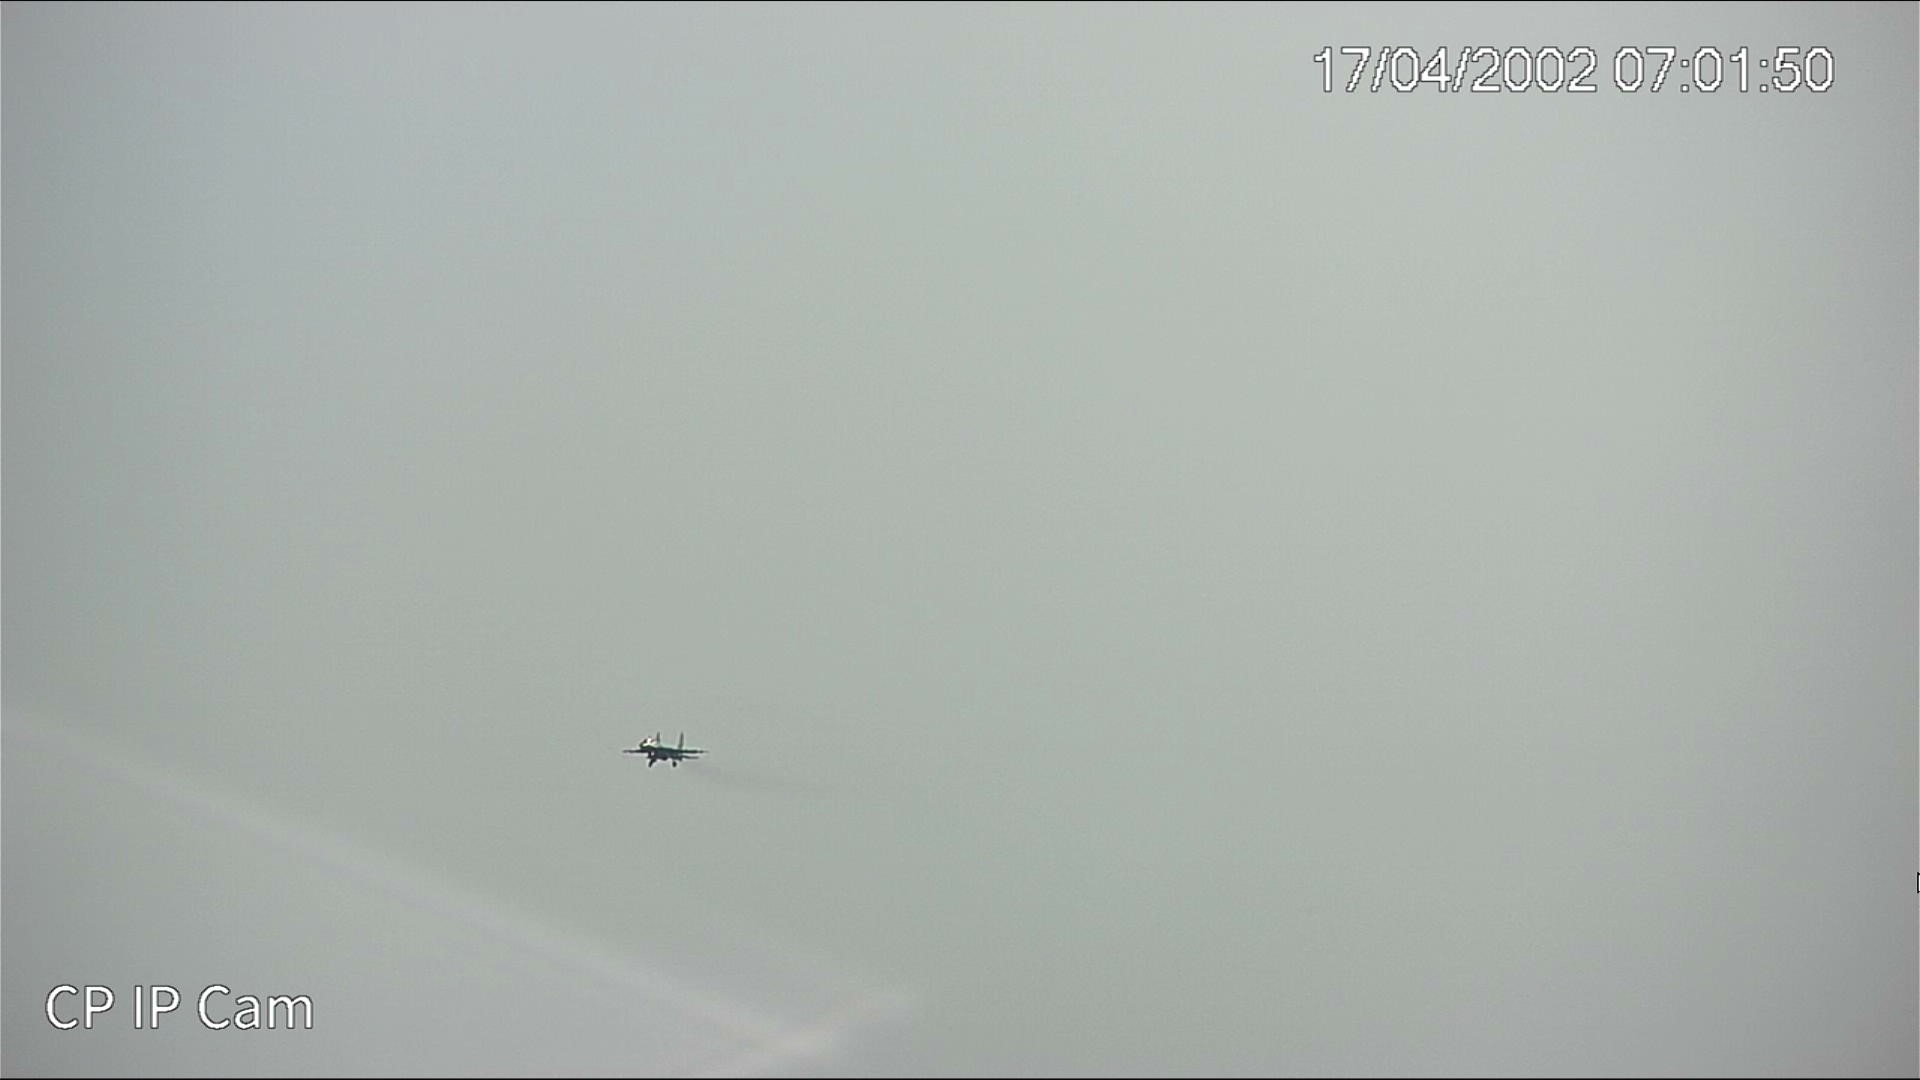SU_30: (621, 731, 707, 770)
